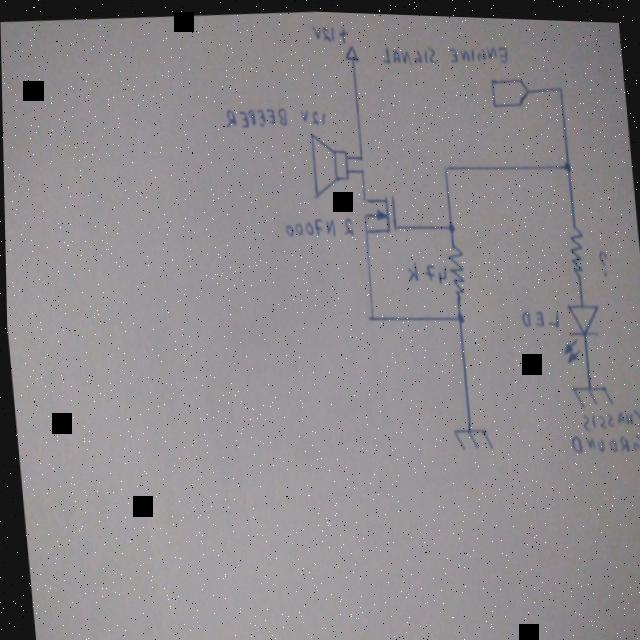diode: (558, 297, 603, 361)
ground: (568, 378, 613, 406), (451, 421, 493, 450)
junction: (562, 154, 574, 170), (454, 306, 464, 321), (364, 308, 375, 321), (446, 217, 455, 230), (441, 158, 450, 170), (357, 149, 365, 159), (557, 78, 564, 88), (358, 163, 365, 172)
resistor: (444, 240, 467, 295), (566, 219, 587, 275)
source: (344, 40, 359, 59)
terminal: (489, 73, 530, 105)
text: (379, 35, 511, 68), (283, 211, 354, 239), (569, 425, 640, 453), (222, 103, 288, 129), (579, 402, 640, 429), (404, 256, 447, 284), (519, 302, 558, 326), (311, 18, 348, 43), (298, 104, 326, 124), (595, 246, 608, 271)
transistor: (360, 189, 398, 232)
